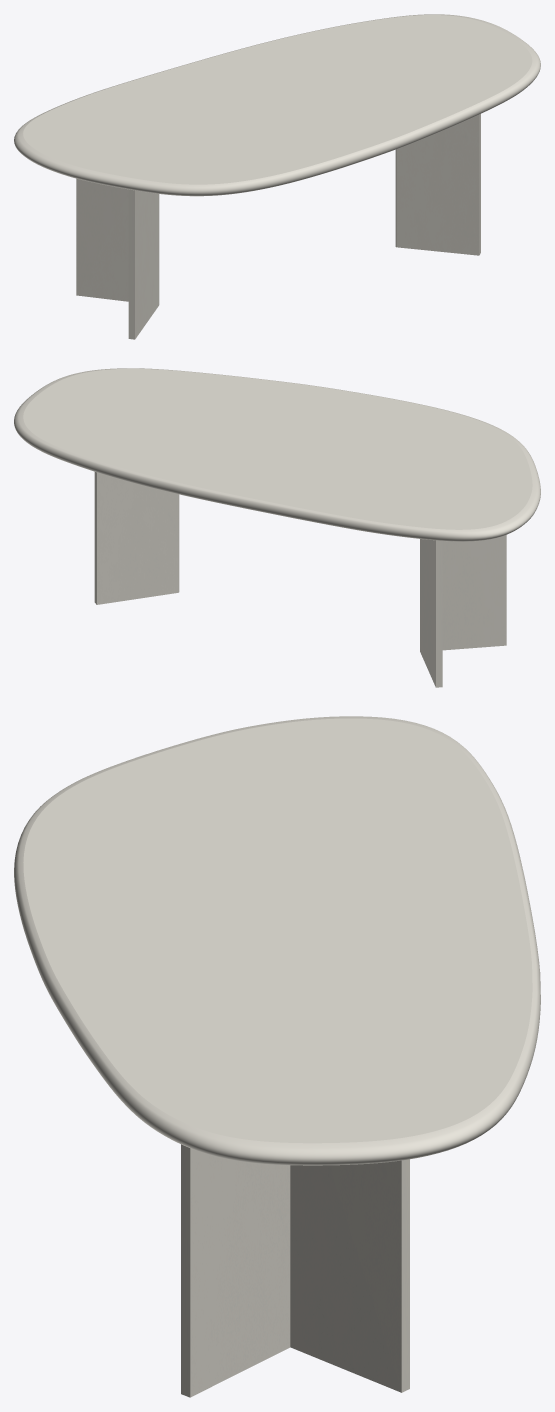
File: pale_leaf2_round_valleyv.glb
3 views of the same model, one above another, from view 1: azimuth 30°, elevation 25°; view 2: azimuth 150°, elevation 25°; view 3: azimuth 270°, elevation 25° (orthographic). The views are drawn at different scales.
Parts seen in each view (by area): view 1: round_leaf2, valleyv; view 2: round_leaf2, valleyv; view 3: round_leaf2, valleyv.
Part boxes in pixels (box(x1,y1,x2,y2)): round_leaf2: box(14, 14, 540, 196); valleyv: box(76, 114, 480, 339); round_leaf2: box(14, 368, 540, 541); valleyv: box(94, 472, 506, 687); round_leaf2: box(14, 716, 540, 1165); valleyv: box(181, 1144, 409, 1397).
Bounding box in the file's own units: 7.5 × 2.52 × 3.8.
1 material, 1 textured.
